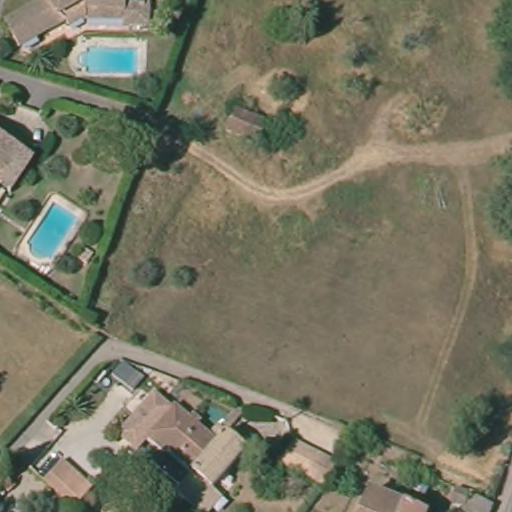pool: (22, 198, 81, 267), (77, 39, 140, 79)
